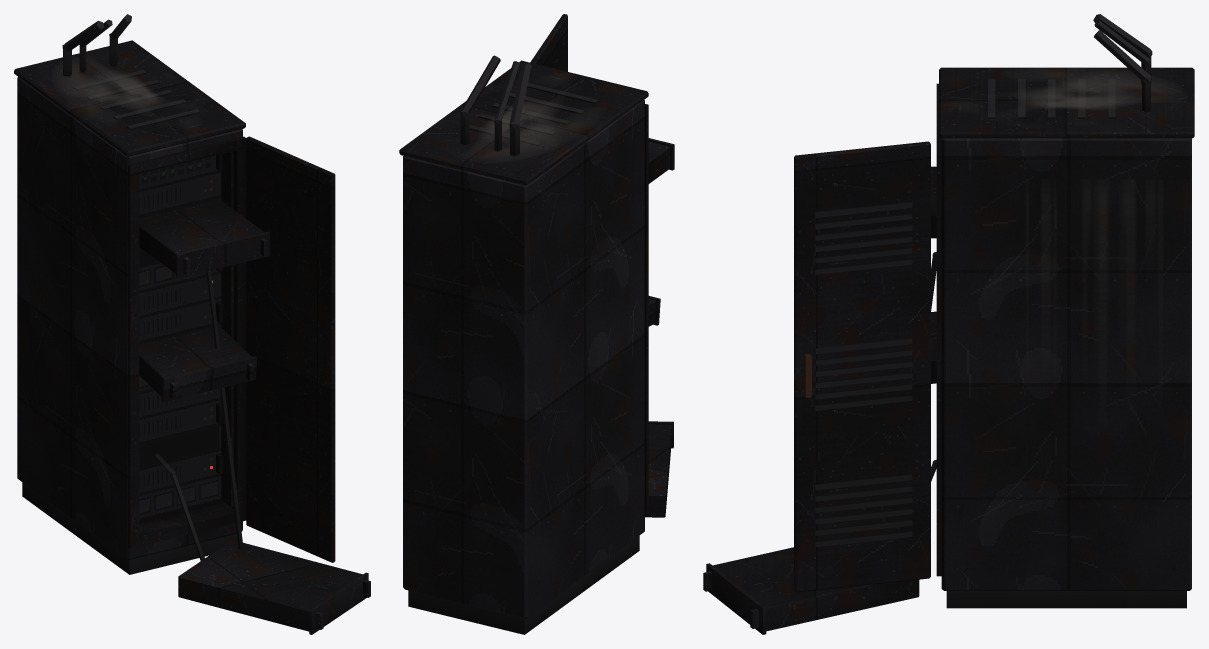
The model's file is server_rack_open.glb.
3 renders of one model, left to right at view 1: azimuth 30°, elevation 25°; view 2: azimuth 150°, elevation 25°; view 3: azimuth 270°, elevation 25°, orthographic. The views are drawn at different scales.
Parts seen in each view (by area): view 1: body, screens, decals, opt_risers; view 2: body, decals, opt_risers; view 3: body, decals, opt_risers.
Boxes of the visible parts, x1=… form: body: x1=14, y1=40, x2=370, y2=634; screens: x1=139, y1=155, x2=221, y2=519; decals: x1=59, y1=61, x2=162, y2=112; opt_risers: x1=62, y1=14, x2=131, y2=77; body: x1=399, y1=14, x2=674, y2=634; decals: x1=473, y1=101, x2=584, y2=158; opt_risers: x1=460, y1=55, x2=531, y2=157; body: x1=703, y1=67, x2=1194, y2=634; decals: x1=1020, y1=71, x2=1173, y2=320; opt_risers: x1=1093, y1=14, x2=1152, y2=112.
Size of what is drawn, in the model's own units: 0.8435 by 2.45 by 1.96.
8 materials, 6 textured.
